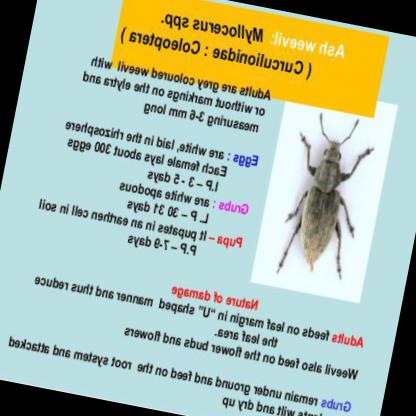ash weevil: (277, 113, 374, 278)
